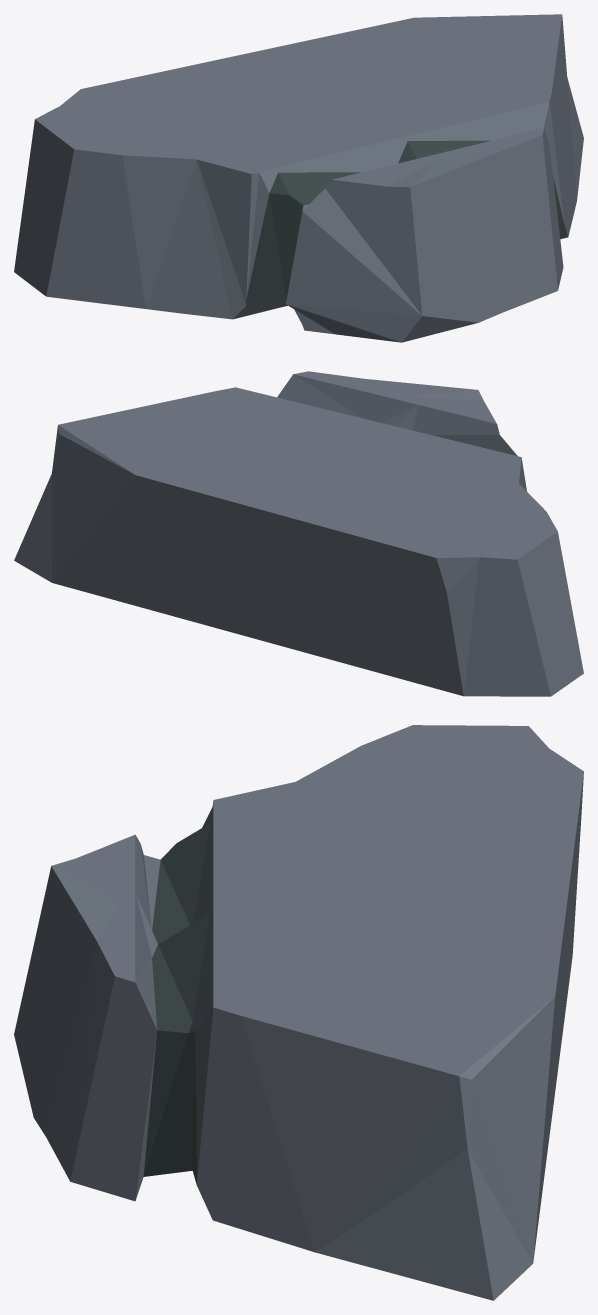
Rendered from WallPiece1.fbx.
3 renders of one model, top to bottom at view 1: azimuth 30°, elevation 25°; view 2: azimuth 150°, elevation 25°; view 3: azimuth 270°, elevation 25°, orthographic. The views are drawn at different scales.
Parts seen in each view (by area): view 1: WallPiece1; view 2: WallPiece1; view 3: WallPiece1.
Part boxes in pixels (x1=…): WallPiece1: x1=14, y1=14, x2=583, y2=342; WallPiece1: x1=14, y1=371, x2=583, y2=696; WallPiece1: x1=14, y1=725, x2=583, y2=1300.
Size of the model in its own units: 316 by 77.88 by 193.
